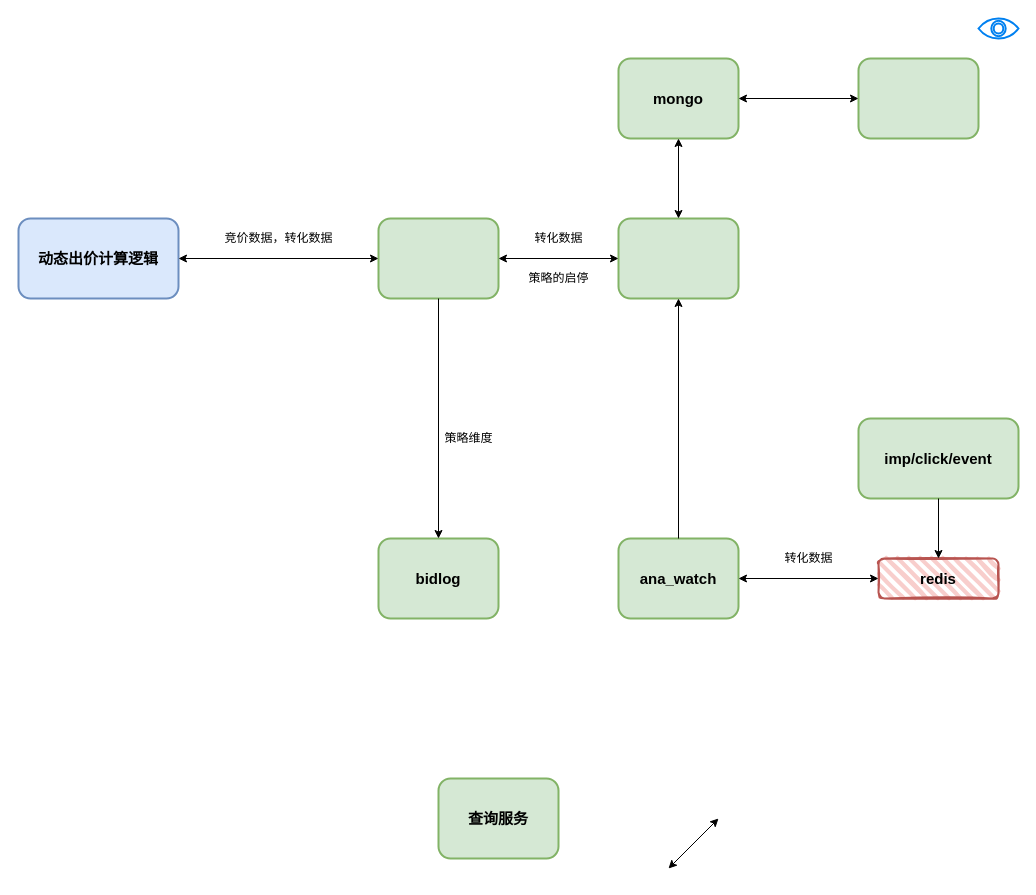
Some shapes in this 1036 by 895 pixel diagram are drawn without their labels. Here are the shapes that lost their labels. From the top down, the centre of each, then its label:
At (x=918, y=98): "front_end".
At (x=438, y=258): "bid".
At (x=678, y=258): "dispatch".
